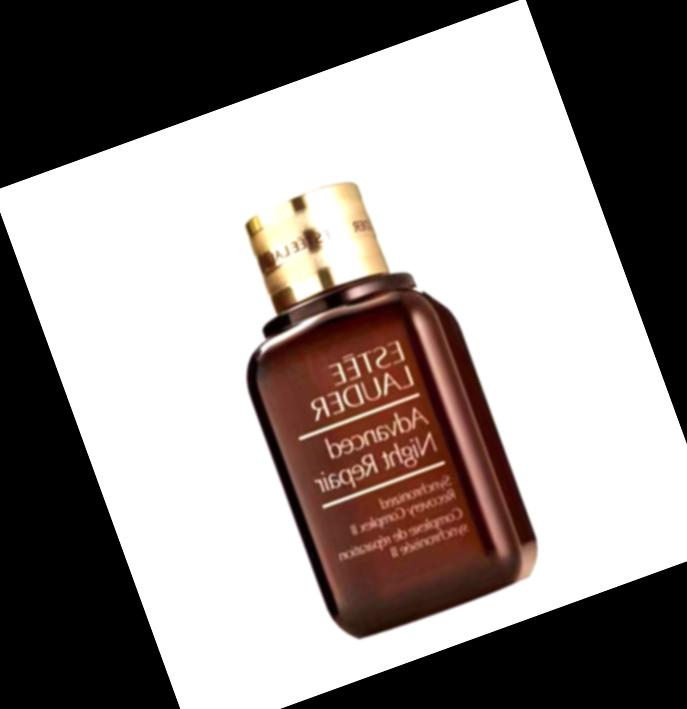cosmetic: (158, 76, 536, 640)
